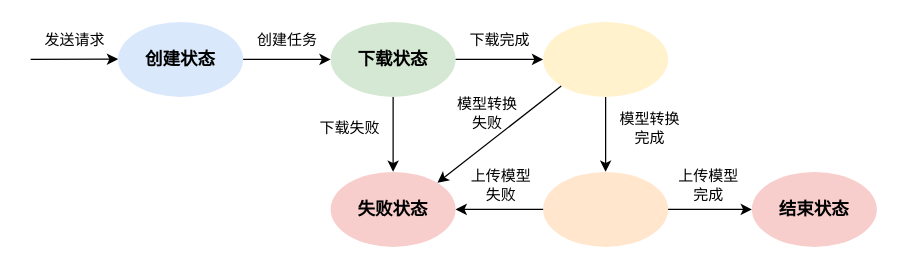
Image size: 899x268. Some labels were removed from this diagram. The shapes that lost their labels are listed below. From the top down, each one's centre as x and y in pixels, then its label:
At point 605,58: "模型转换状态".
At point 605,208: "上传模型状态".
